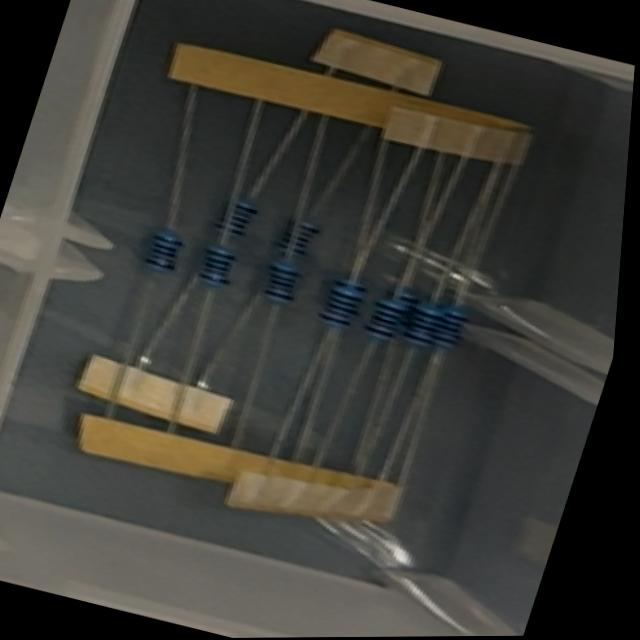Resistor: (207, 193, 262, 242), (424, 302, 471, 355), (360, 295, 408, 346), (270, 215, 323, 261), (137, 228, 186, 277), (193, 241, 240, 289), (379, 284, 421, 333), (401, 303, 443, 350), (317, 287, 359, 331), (261, 260, 303, 303), (322, 274, 363, 317)
